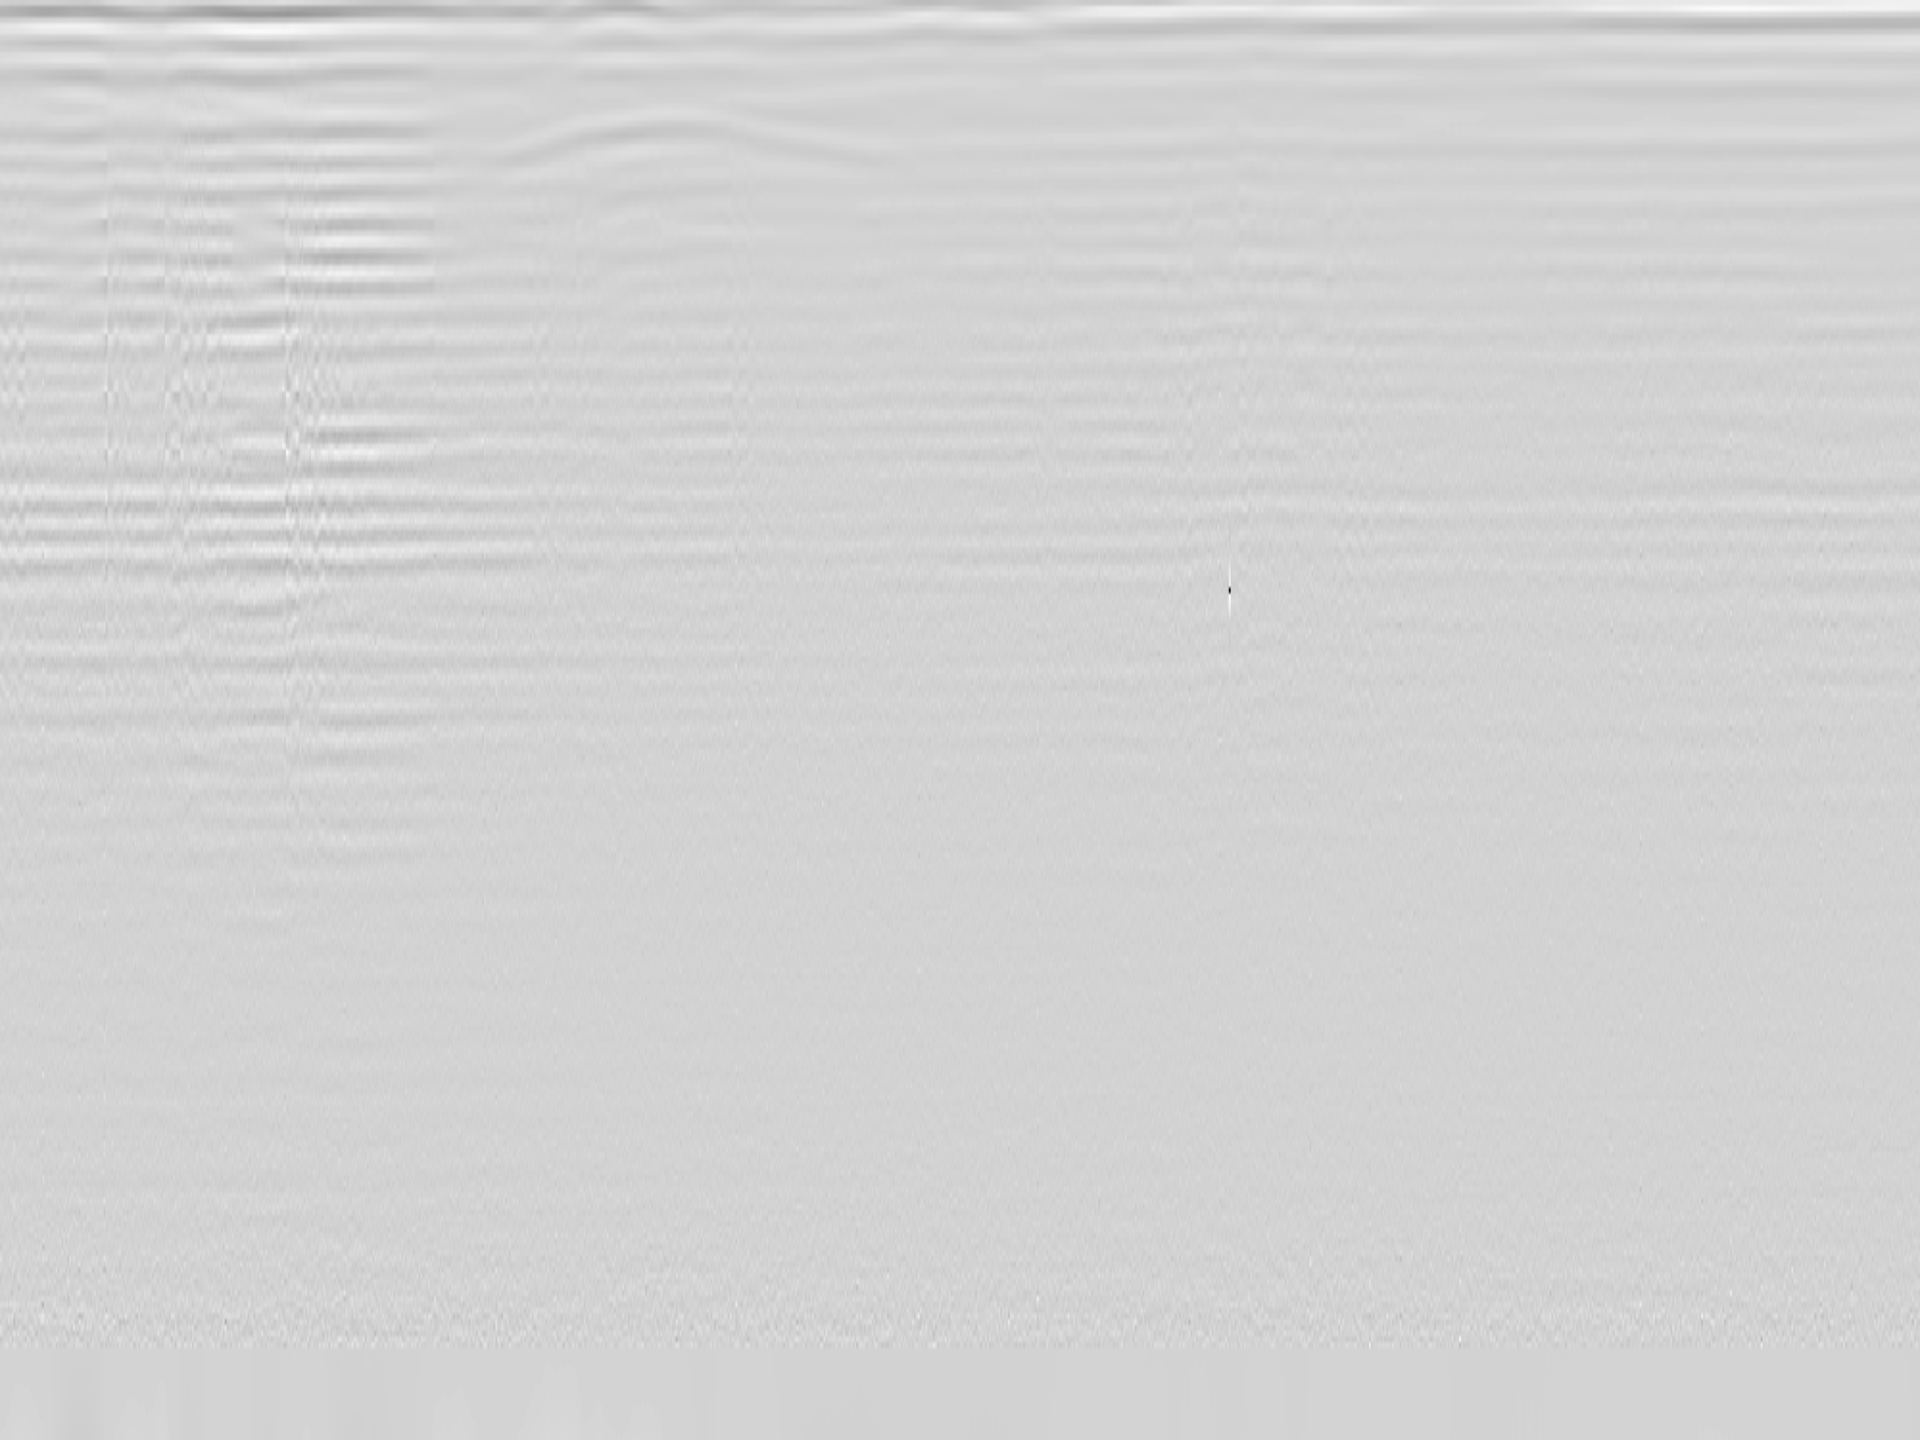Tunnel: (490, 106, 881, 169)
